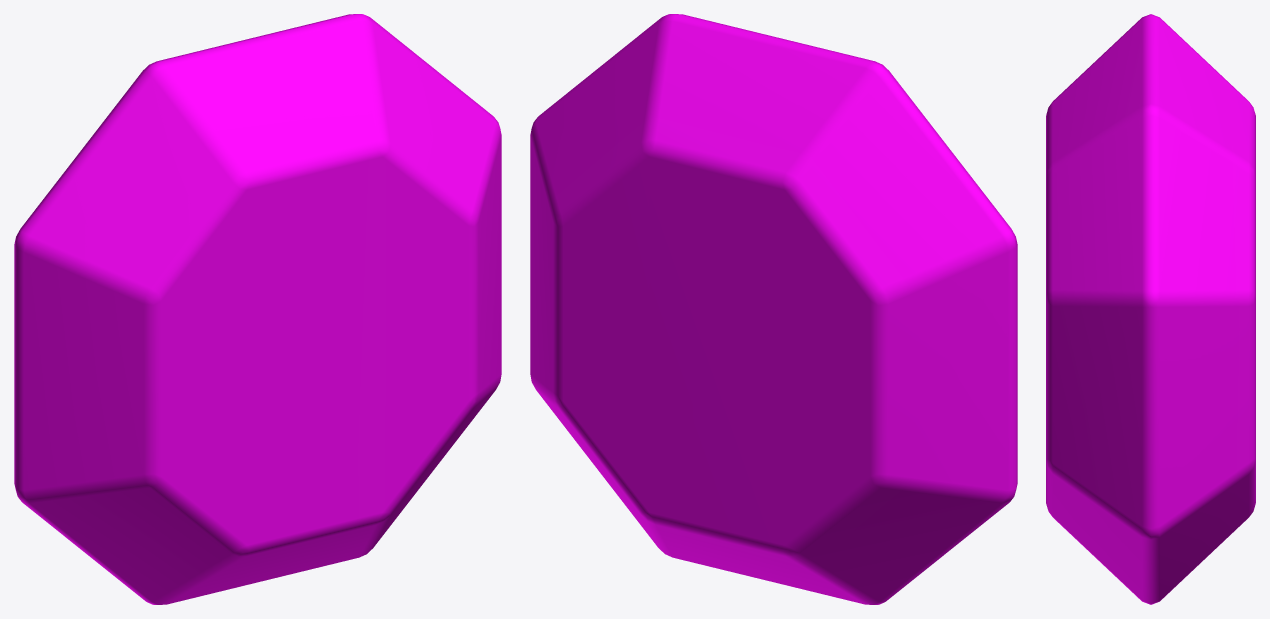
3 views of the same model, side by side, from view 1: azimuth 30°, elevation 25°; view 2: azimuth 150°, elevation 25°; view 3: azimuth 270°, elevation 25° (orthographic). The views are drawn at different scales.
Parts seen in each view (by area): view 1: model_0.096; view 2: model_0.096; view 3: model_0.096.
Boxes of the visible parts, x1,y1,x2,y2 form: model_0.096: (14,14,501,604); model_0.096: (530,14,1017,604); model_0.096: (1046,14,1255,604).
Bounding box in the file's own units: 3.3 × 3.54 × 1.35.
